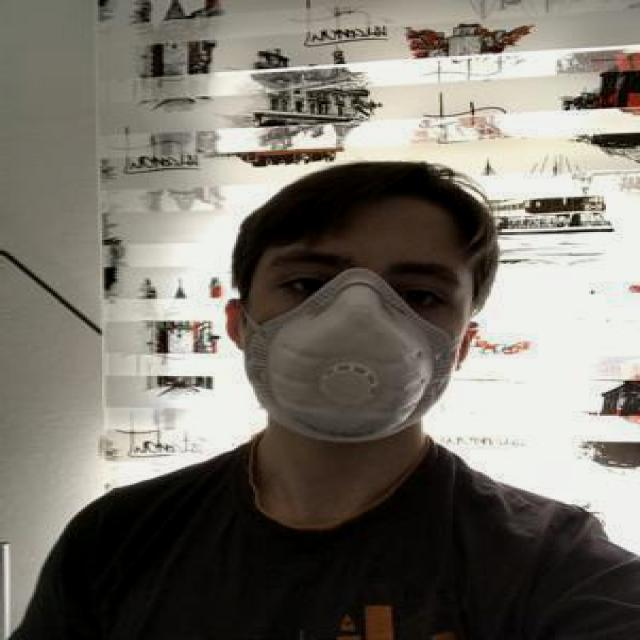face_mask: (244, 227, 470, 442)
head_nohelmet: (228, 164, 491, 242)
person: (0, 147, 621, 640)
